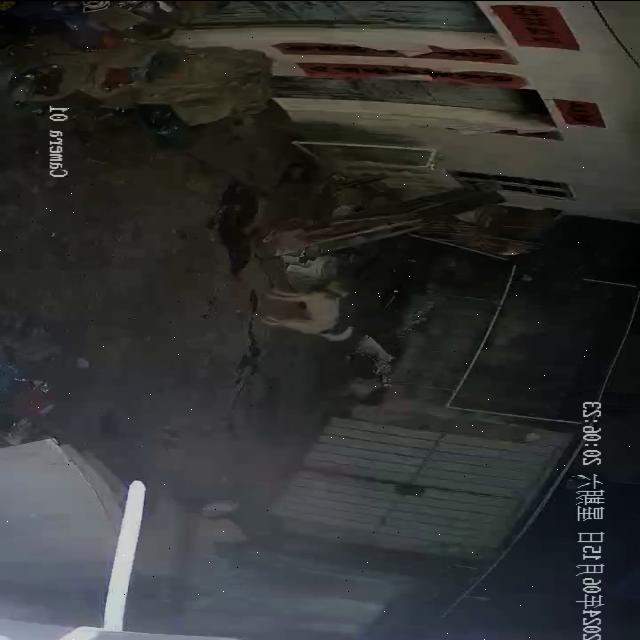dog: (261, 288, 357, 342)
